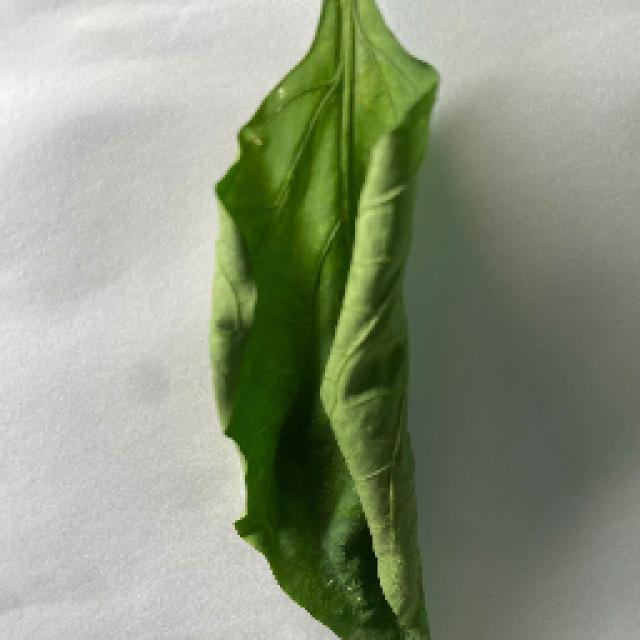Leaf: (204, 3, 446, 640)
